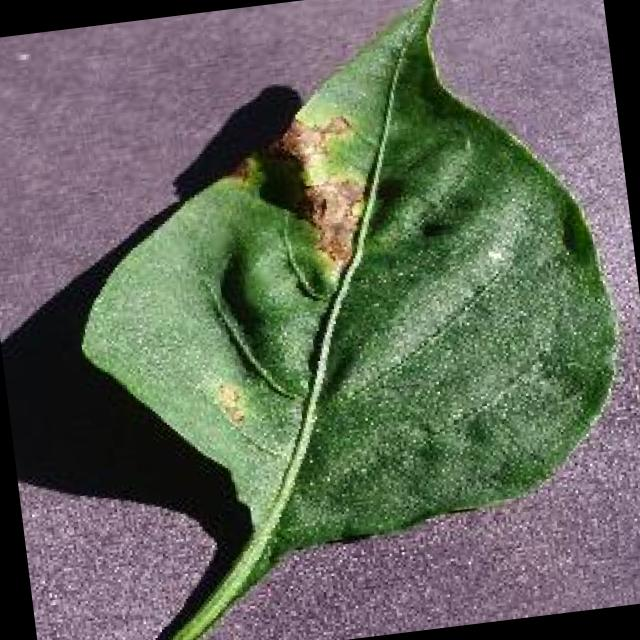Chilli_Bacterial_Spot: (38, 0, 640, 640), (268, 104, 380, 278), (295, 172, 373, 272), (207, 378, 251, 434), (312, 110, 356, 146)
